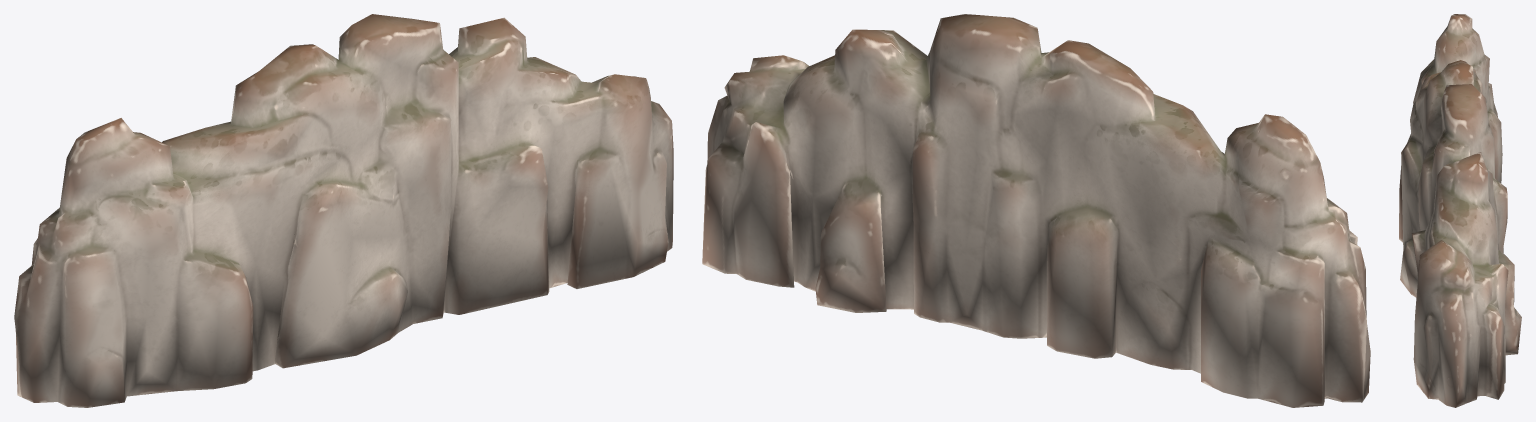
File: Rock Wall 1.FBX
3 renders of one model, left to right at view 1: azimuth 30°, elevation 25°; view 2: azimuth 150°, elevation 25°; view 3: azimuth 270°, elevation 25°, orthographic. The views are drawn at different scales.
Visible parts, largest first — view 1: Rock Wall 1; view 2: Rock Wall 1; view 3: Rock Wall 1.
Part boxes in pixels (<box>): Rock Wall 1: <box>14,14,673,407</box>; Rock Wall 1: <box>702,14,1370,407</box>; Rock Wall 1: <box>1399,14,1521,407</box>.
Bounding box in the file's own units: 11143 × 4682 × 2441.
Materials: 1 (1 with a texture image).
